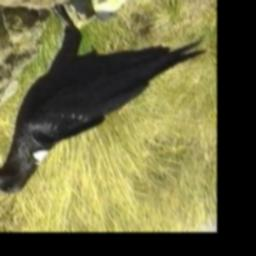Crow: (0, 0, 208, 196)
